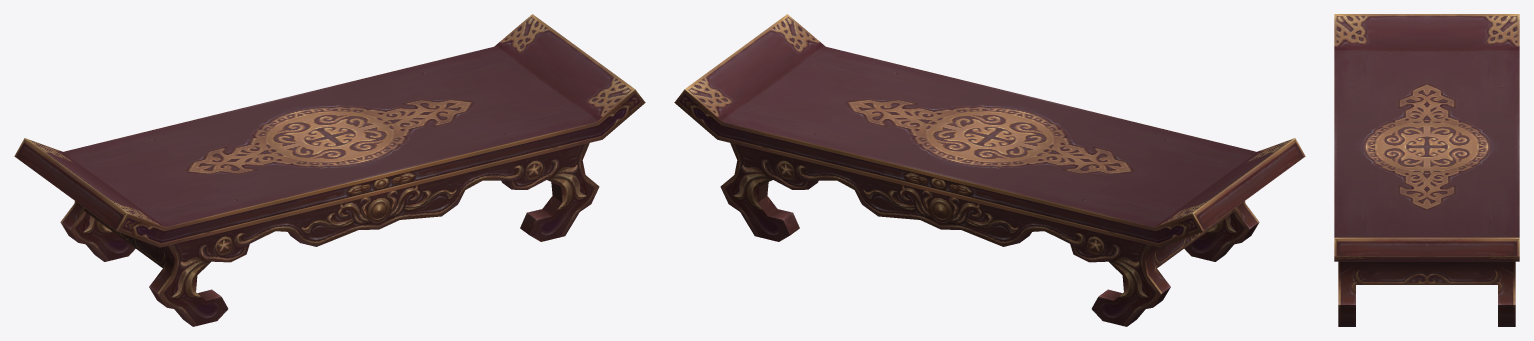
3 views of the same model, side by side, from view 1: azimuth 30°, elevation 25°; view 2: azimuth 150°, elevation 25°; view 3: azimuth 270°, elevation 25° (orthographic). The views are drawn at different scales.
Parts seen in each view (by area): view 1: 56052; view 2: 56052; view 3: 56052.
Boxes of the visible parts, <box> form: 56052: <box>14,14,645,326</box>; 56052: <box>674,14,1305,326</box>; 56052: <box>1334,14,1519,326</box>.
Size of the model in its own units: 282 by 67.29 by 94.97.
1 material, 1 textured.
